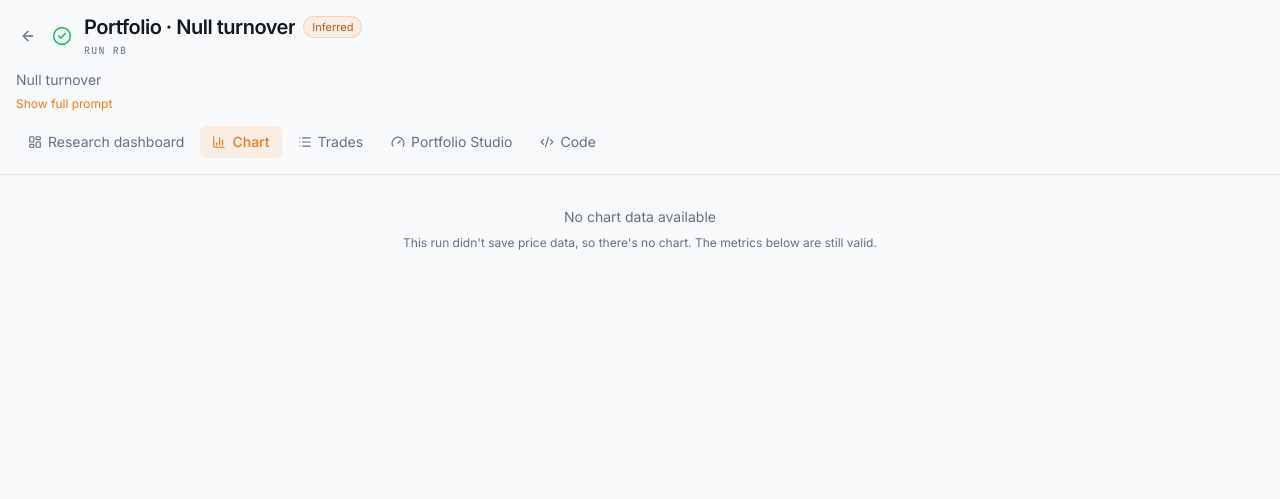
Test: RunDetail missing readings › a rebalance turnover of null is a dash, not 0.0%
Expected: the text "Null turnover" is shown, [16,71,101,88]
Click the tab "Portfolio Studio".
click(452, 142)  # box [379,126,524,158]
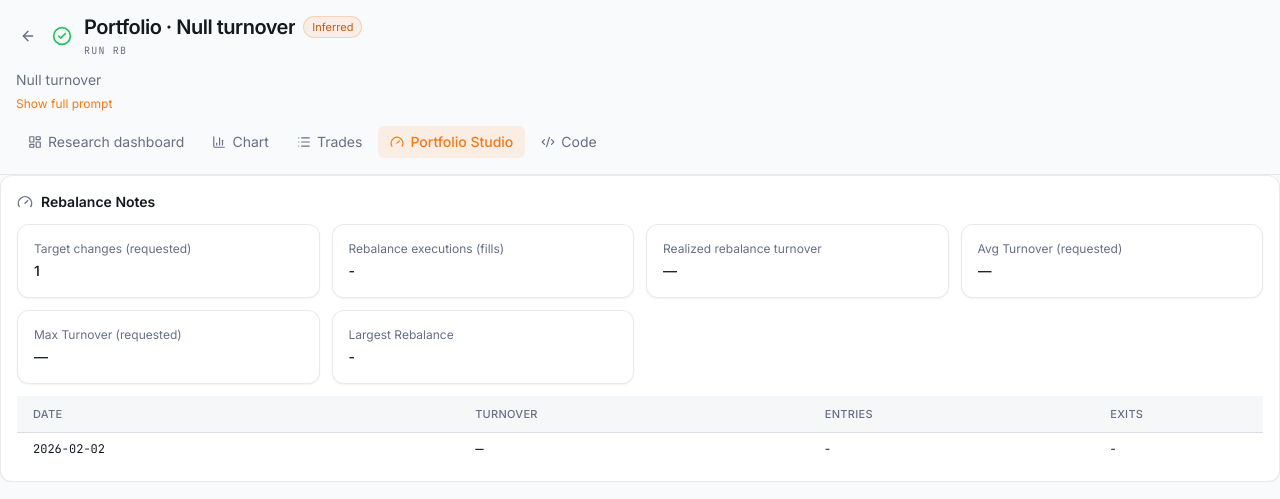
Expected: the text "Rebalance Notes" is shown, [17,193,155,210]
